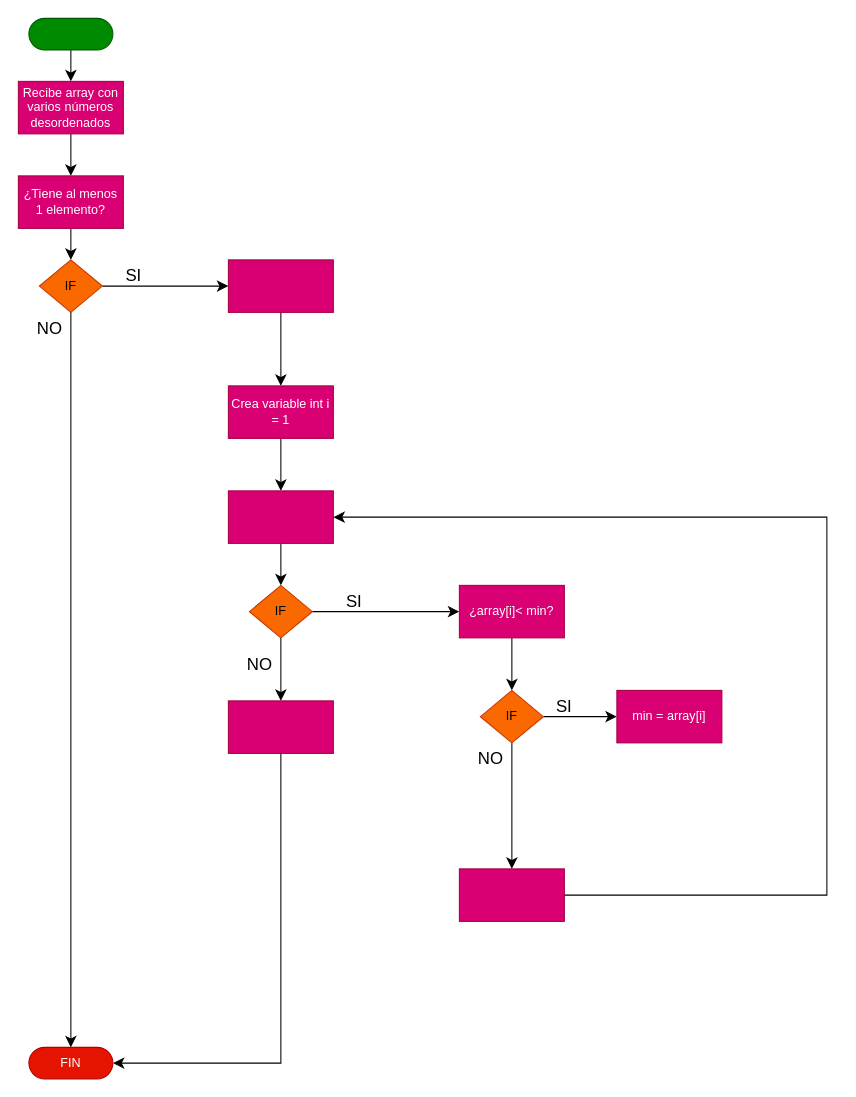
Some shapes in this 856 by 1097 pixel diagram are drawn without their labels. The centre of each missing label's shape, as x and y in pixels:
"Crea variable int min = array[0];" belongs at point 280,285.
"incrementar i++" belongs at point 511,894.
"INICIO" belongs at point 70,33.
"mostrar el valor de min" belongs at point 280,726.
"¿i < tamaño array?" belongs at point 280,516.
